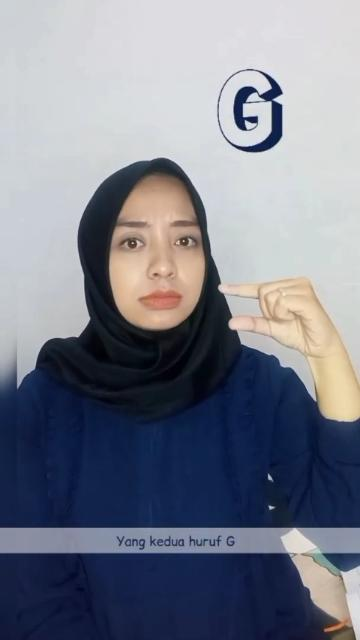G: (213, 273, 341, 361)
